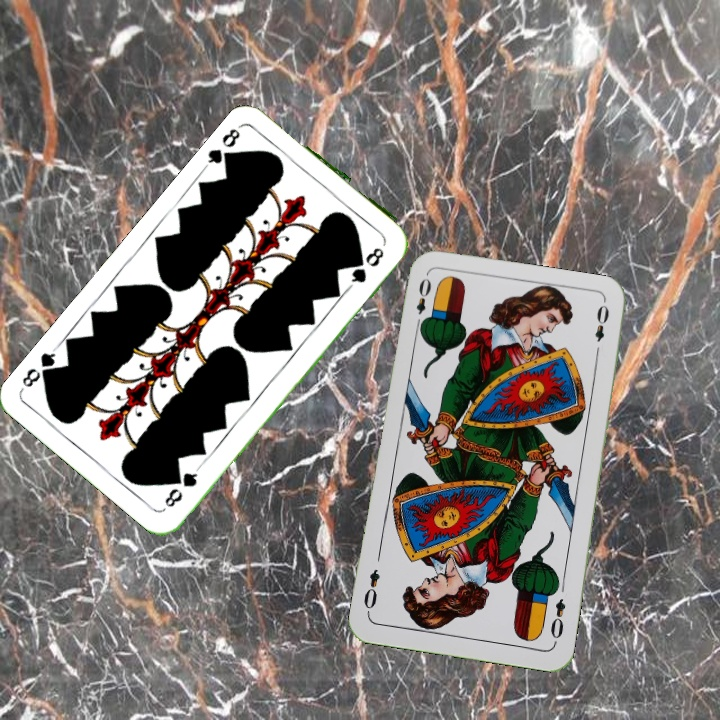EO: (411, 274, 434, 331), (546, 594, 569, 646)
G8: (202, 120, 246, 170), (160, 463, 203, 510)
